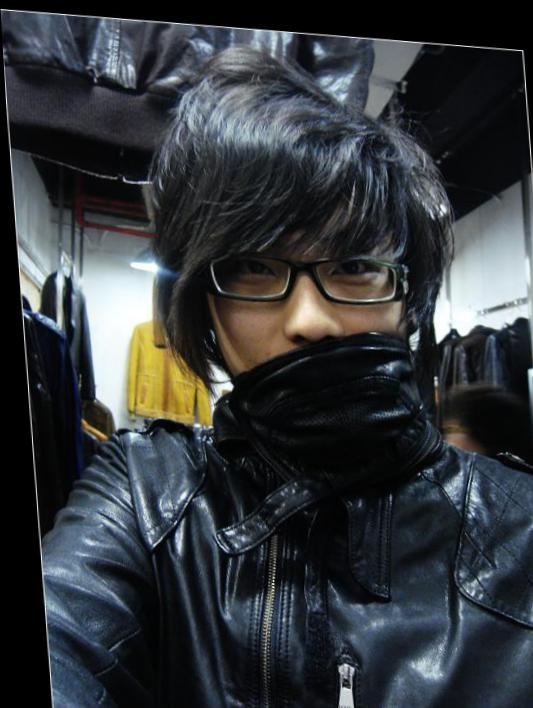WRONG: (203, 197, 423, 423)
